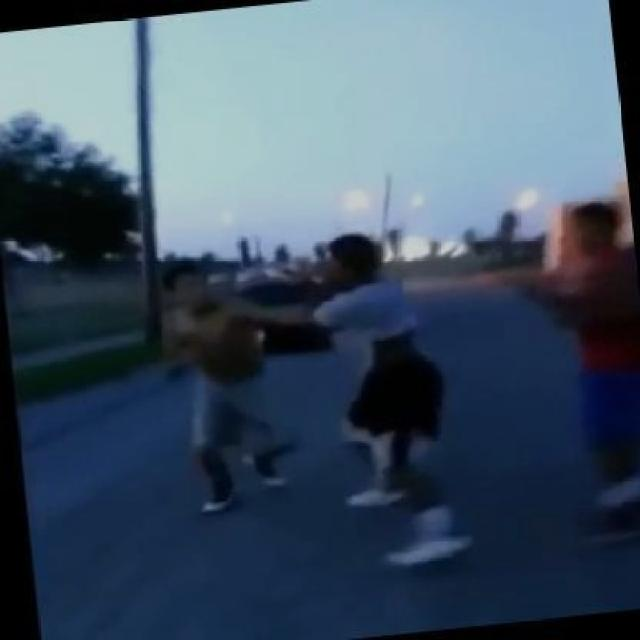fight: (134, 235, 473, 568)
